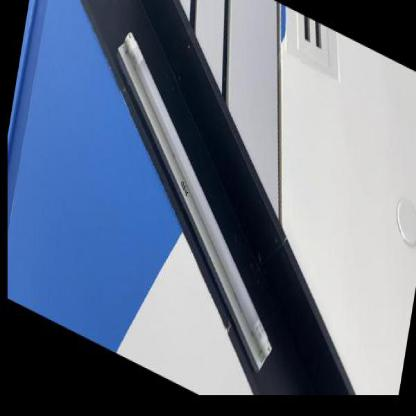light_off: (72, 14, 315, 391)
